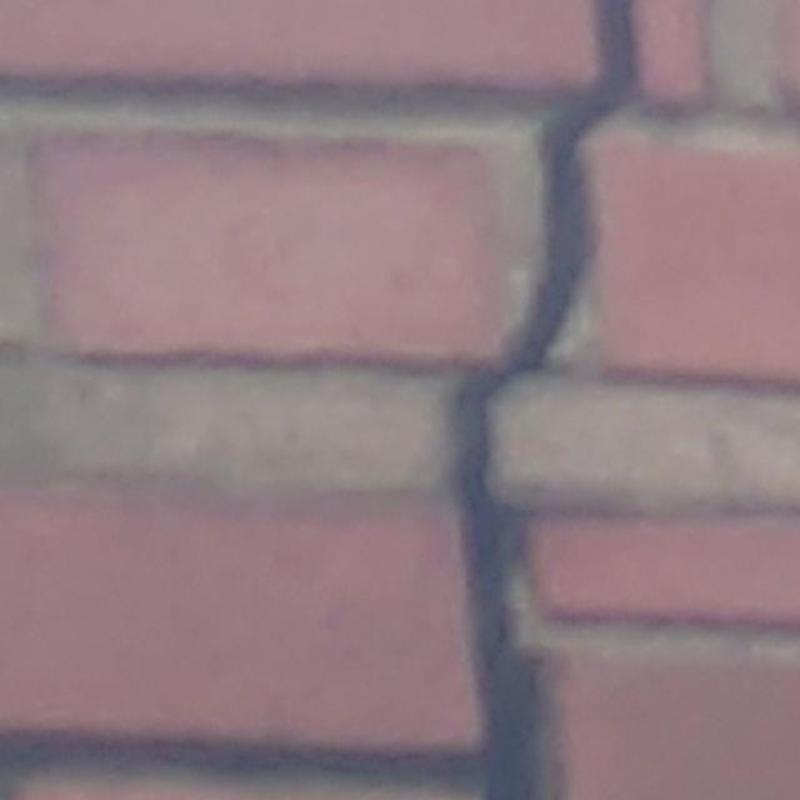pothole: (453, 0, 636, 799)
